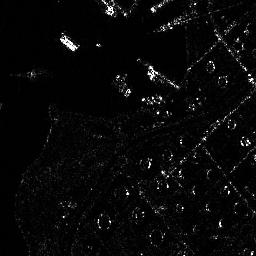ship: (58, 34, 79, 51)
